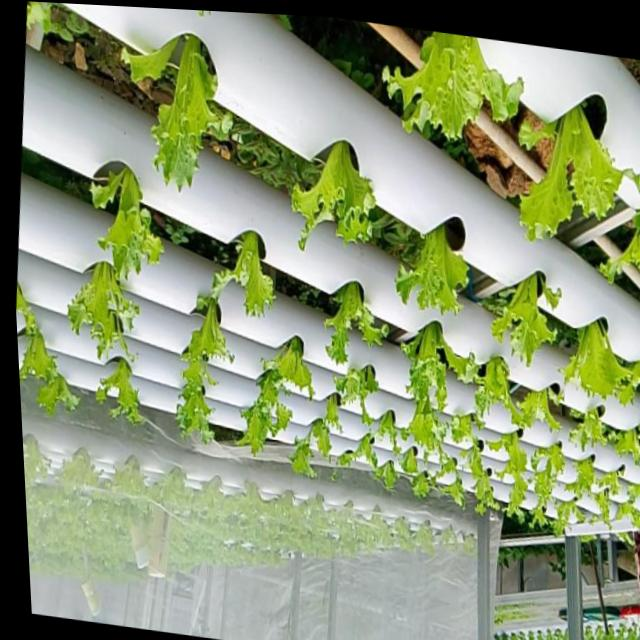Baby: (517, 112, 640, 244), (382, 33, 520, 144), (155, 38, 233, 193), (292, 142, 376, 251), (179, 289, 235, 441), (95, 166, 166, 278), (395, 218, 469, 314), (72, 261, 142, 358), (491, 272, 556, 366), (559, 321, 629, 403), (213, 231, 276, 316), (325, 281, 389, 364), (465, 353, 532, 428), (238, 369, 293, 454), (335, 363, 390, 423), (19, 310, 63, 385), (264, 335, 316, 396), (100, 356, 147, 422), (528, 443, 566, 524), (402, 394, 448, 457), (554, 501, 586, 536), (569, 458, 596, 499), (437, 452, 459, 484), (451, 414, 474, 443), (595, 490, 612, 527)
